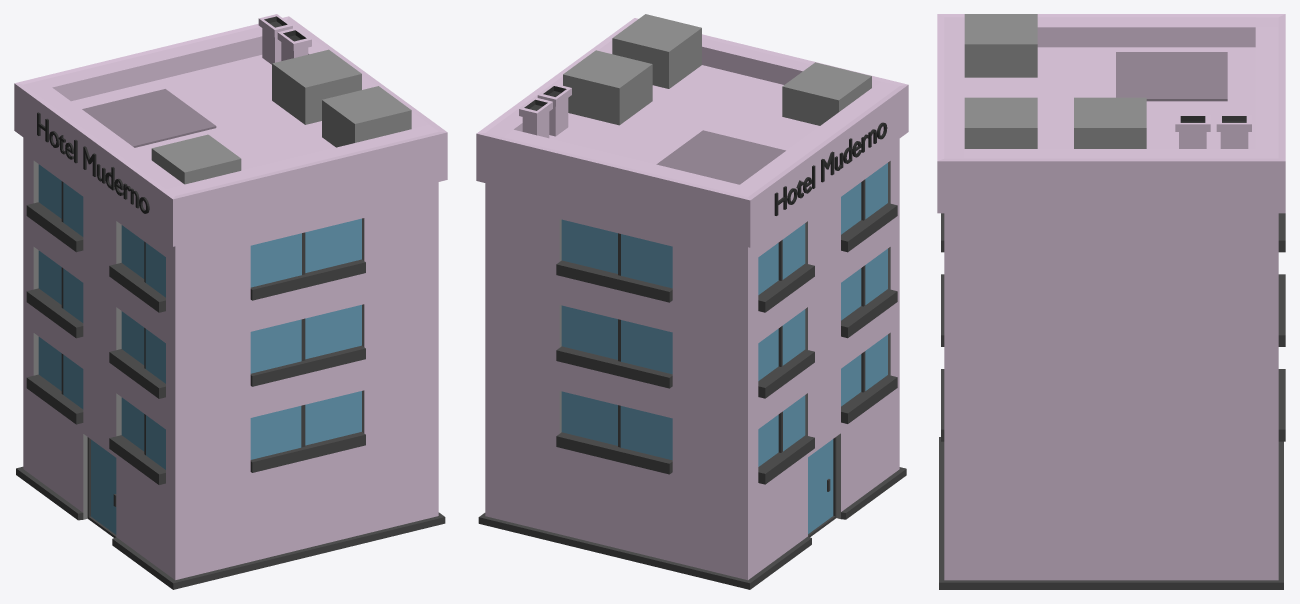
Rendered from predio2.fbx.
3 renders of one model, left to right at view 1: azimuth 30°, elevation 25°; view 2: azimuth 150°, elevation 25°; view 3: azimuth 270°, elevation 25°, orthographic. The views are drawn at different scales.
Visible parts, largest first — view 1: Cube.055, Text; view 2: Cube.055, Text; view 3: Cube.055.
Part boxes in pixels (<box>): Cube.055: <box>14,14,447,589</box>; Text: <box>37,112,149,213</box>; Cube.055: <box>476,14,908,589</box>; Text: <box>774,122,887,215</box>; Cube.055: <box>937,14,1285,589</box>.
Size of the model in its own units: 57.89 by 82.34 by 57.5.
